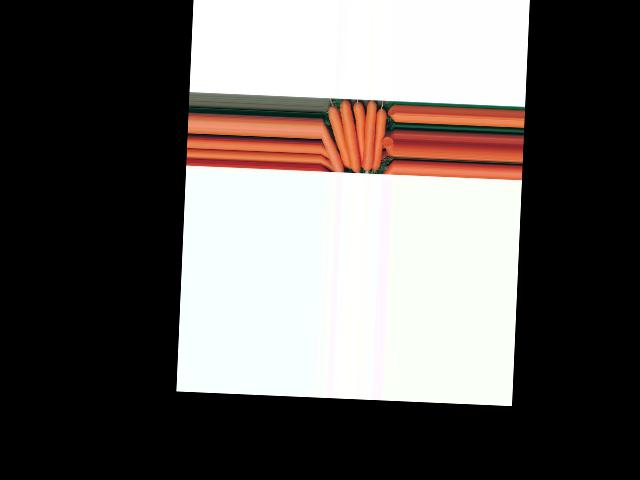carrot: (339, 97, 364, 172)
